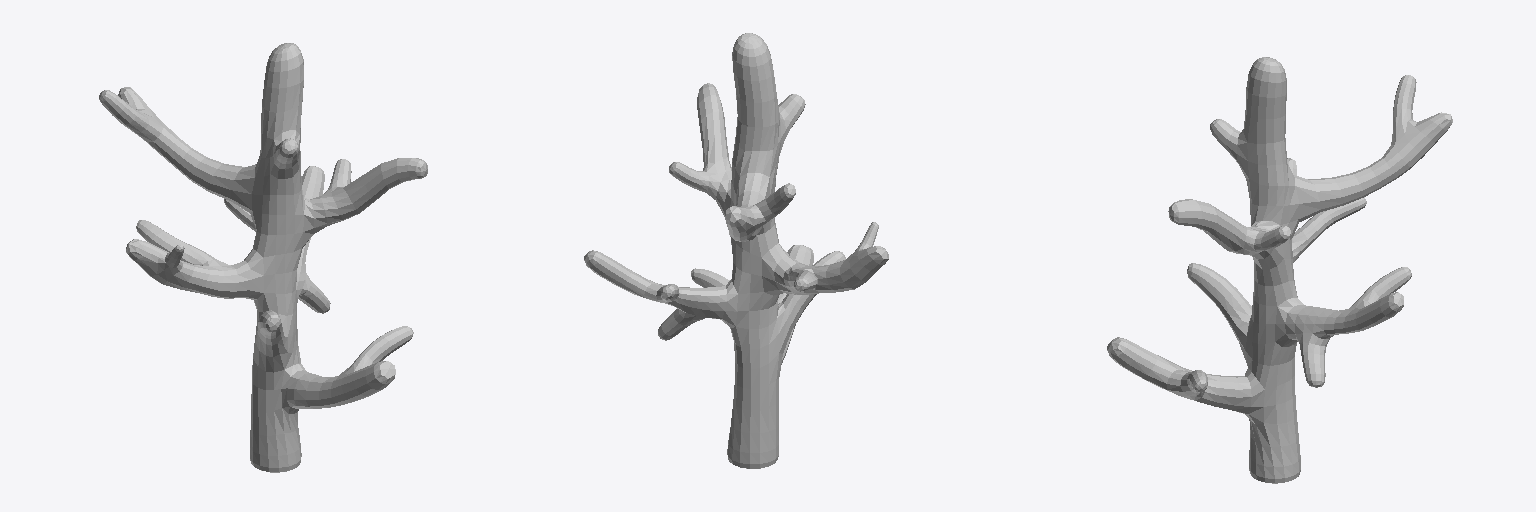
File: Coral_A_03_LOD0.obj
3 views of the same model, side by side, from view 1: azimuth 30°, elevation 25°; view 2: azimuth 150°, elevation 25°; view 3: azimuth 270°, elevation 25° (orthographic).
Parts seen in each view (by area): view 1: Coral_A_03_LOD0_Cylinder.311; view 2: Coral_A_03_LOD0_Cylinder.311; view 3: Coral_A_03_LOD0_Cylinder.311.
Boxes of the visible parts, box(x1,y1,x2,y2) form: Coral_A_03_LOD0_Cylinder.311: box(99, 43, 427, 472); Coral_A_03_LOD0_Cylinder.311: box(584, 33, 888, 468); Coral_A_03_LOD0_Cylinder.311: box(1107, 57, 1452, 483).
Bounding box in the file's own units: 6.39 × 10.25 × 7.67.